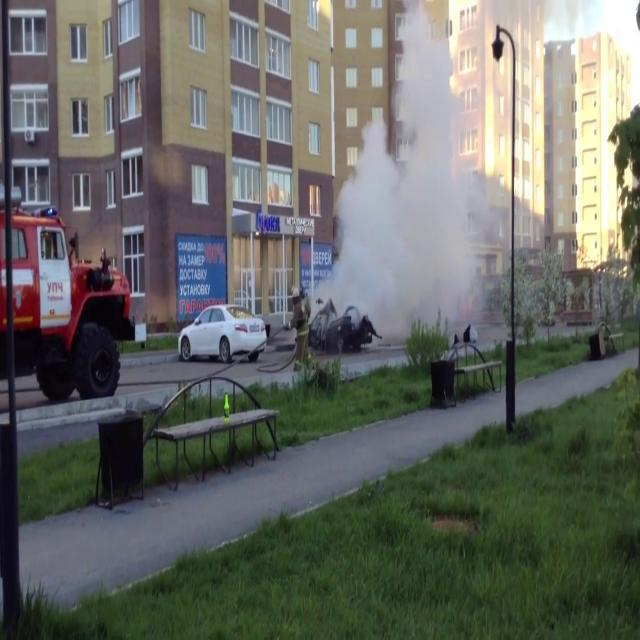Smoke: (327, 7, 487, 341)
